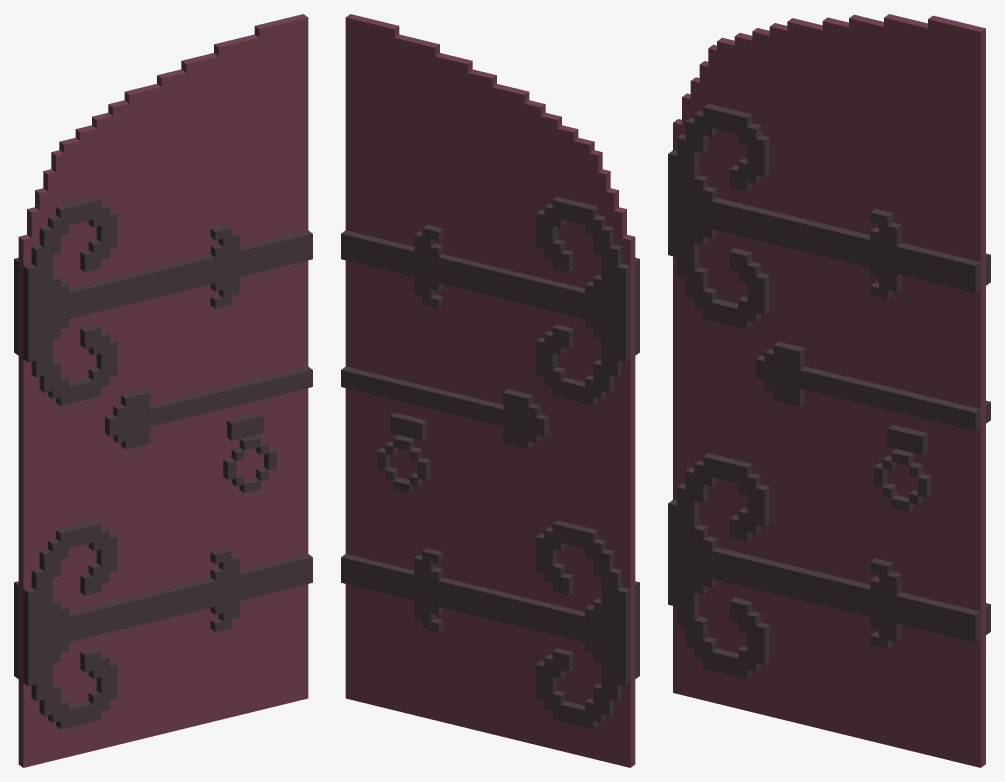
File: PuertaDobleRoja-1.obj
3 renders of one model, left to right at view 1: azimuth 30°, elevation 25°; view 2: azimuth 150°, elevation 25°; view 3: azimuth 330°, elevation 25°, orthographic. The views are drawn at different scales.
Size of the model in its own units: 3.5 by 8 by 0.5.
Materials: 1 (1 with a texture image).
